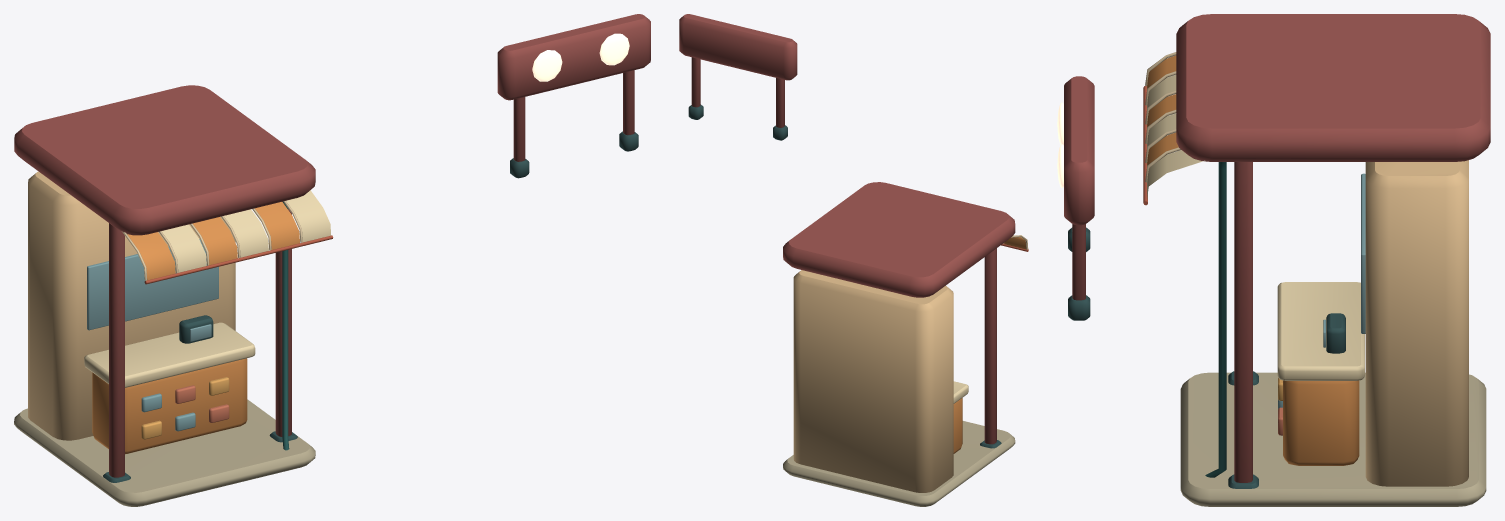
Rendered from route66_parts_4.glb.
3 renders of one model, left to right at view 1: azimuth 30°, elevation 25°; view 2: azimuth 150°, elevation 25°; view 3: azimuth 270°, elevation 25°, orthographic. The views are drawn at different scales.
Parts seen in each view (by area): view 1: Route66Parts4; view 2: Route66Parts4; view 3: Route66Parts4.
Part boxes in pixels (x1,y1,x2,y2): Route66Parts4: (14, 14, 650, 506); Route66Parts4: (679, 14, 1028, 506); Route66Parts4: (1057, 14, 1490, 506).
Bounding box in the file's own units: 5.74 × 4.66 × 3.52.
